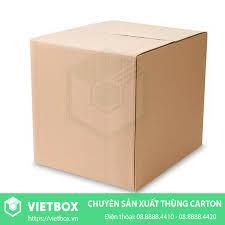box: (29, 19, 207, 193)
